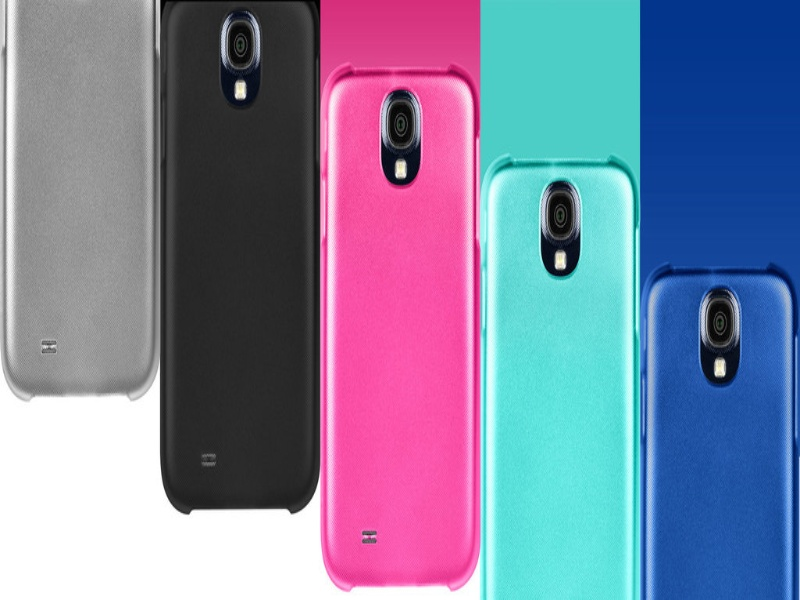cellphone: (321, 57, 483, 594), (158, 1, 318, 510)
